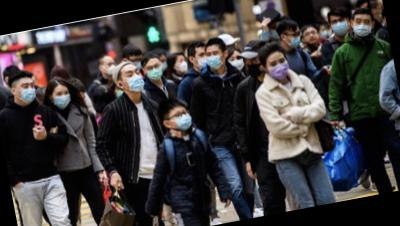with_mask: (120, 66, 147, 93), (266, 54, 292, 82), (169, 106, 195, 133), (15, 80, 39, 104), (351, 14, 374, 38), (52, 87, 74, 110), (204, 47, 225, 71), (243, 56, 263, 80), (329, 14, 350, 36), (144, 60, 164, 83), (228, 52, 246, 73), (128, 54, 146, 72), (286, 29, 303, 48), (194, 48, 209, 69), (102, 59, 119, 76), (176, 56, 190, 72)
without_mask: (302, 29, 321, 45)
